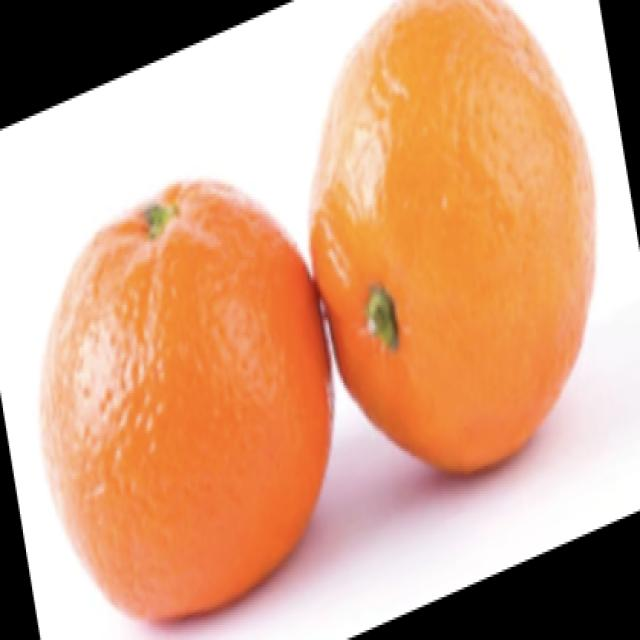matang: (310, 1, 595, 472), (44, 192, 331, 622)
